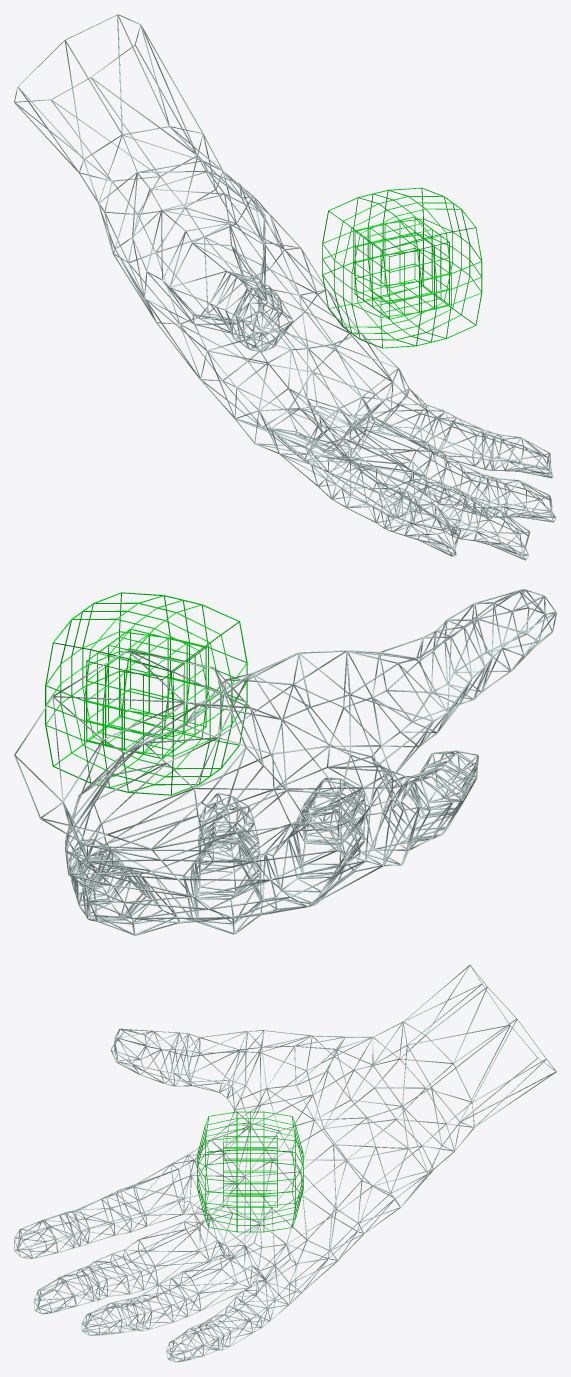
Rendered from handcube1.glb.
3 renders of one model, top to bottom at view 1: azimuth 30°, elevation 25°; view 2: azimuth 150°, elevation 25°; view 3: azimuth 270°, elevation 25°, orthographic. The views are drawn at different scales.
Visible parts, largest first — view 1: Object_5.001, Cube; view 2: Object_5.001, Cube; view 3: Object_5.001, Cube.
Part boxes in pixels (x1,y1,x2,y2): Object_5.001: (14, 14, 556, 560); Cube: (322, 187, 482, 348); Object_5.001: (14, 589, 556, 935); Cube: (45, 592, 247, 795); Object_5.001: (14, 965, 556, 1362); Cube: (197, 1111, 303, 1232).
Bounding box in the file's own units: 11.37 × 11.93 × 20.27.
